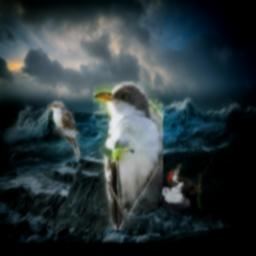Cuckoo: (94, 82, 164, 231), (47, 102, 80, 160)
Woodpecker: (158, 163, 202, 213)
